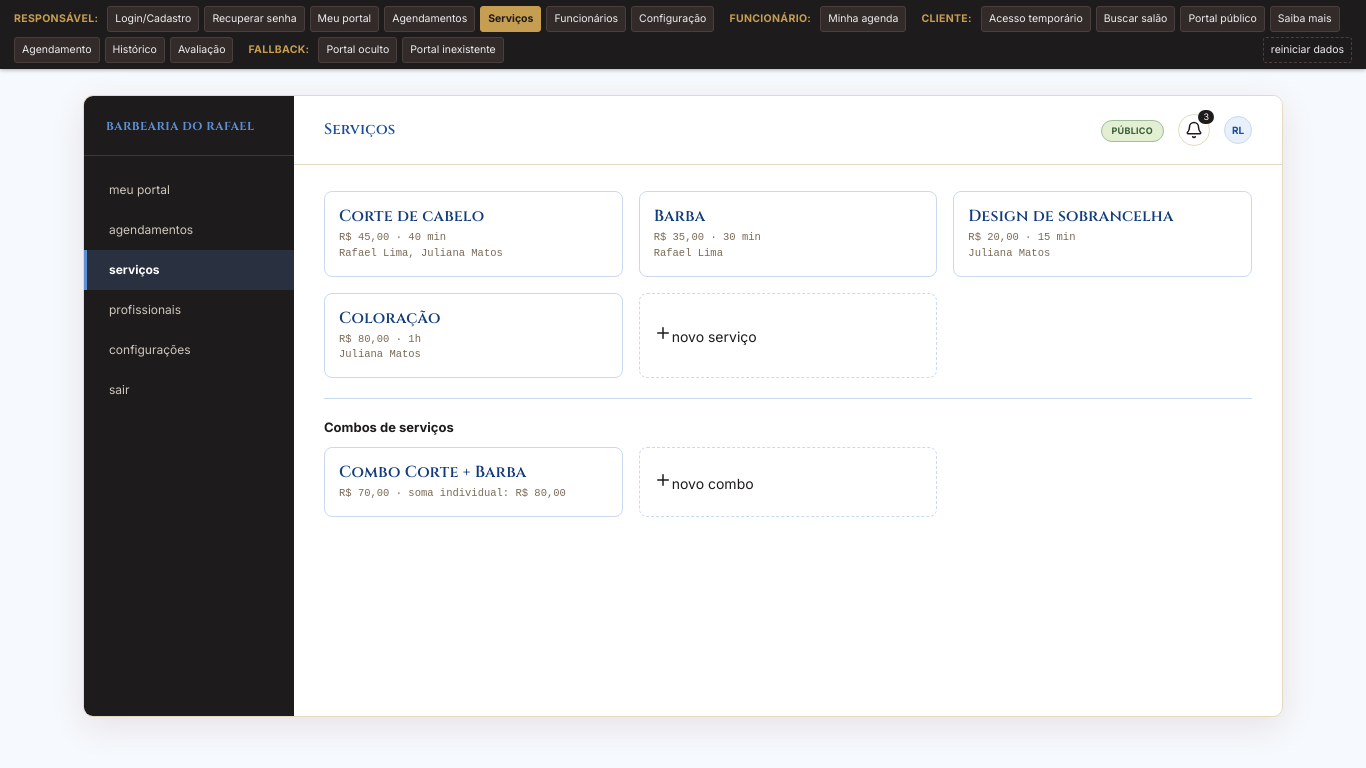
Test: painel do responsavel › modal de servico valida campos
Click the button "novo serviço" at (714, 336), box [639, 292, 937, 378]
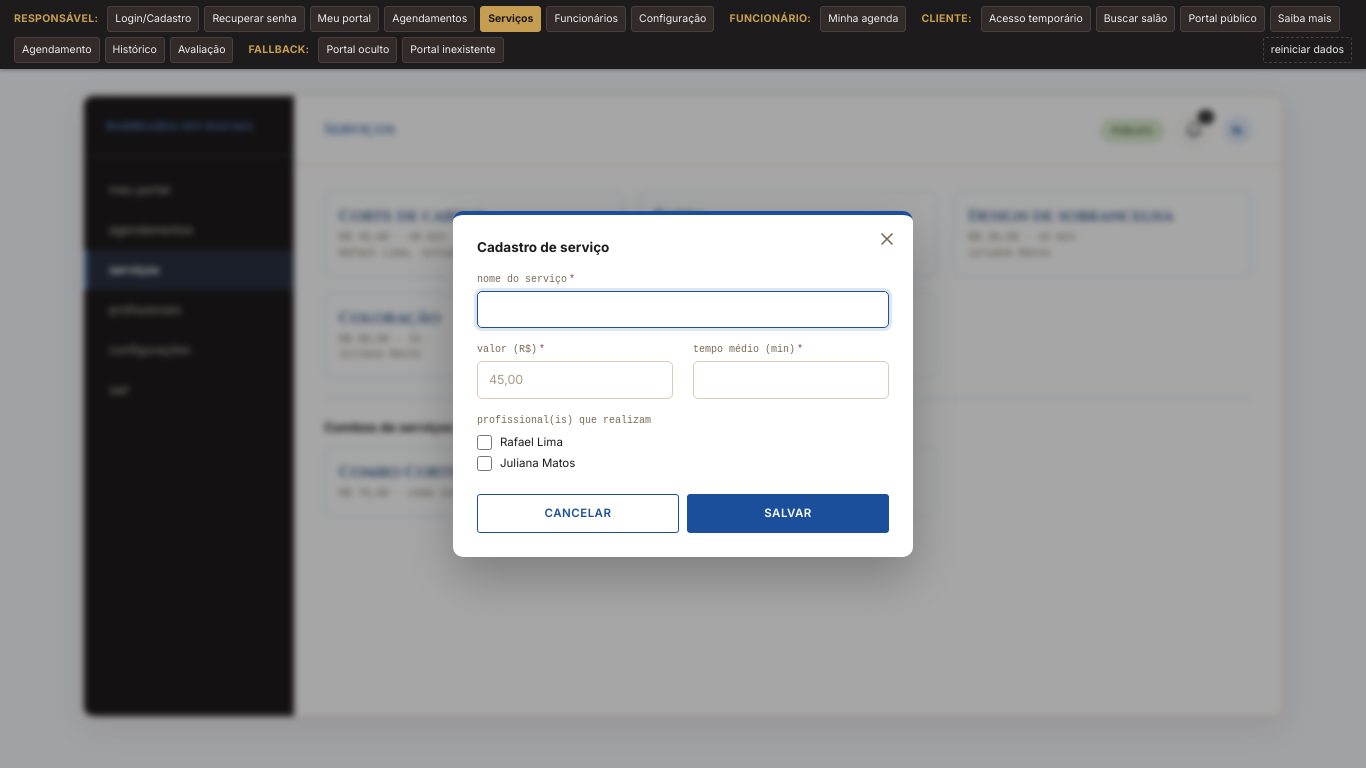
Click the button "Salvar" at (788, 514), box [687, 494, 889, 533]
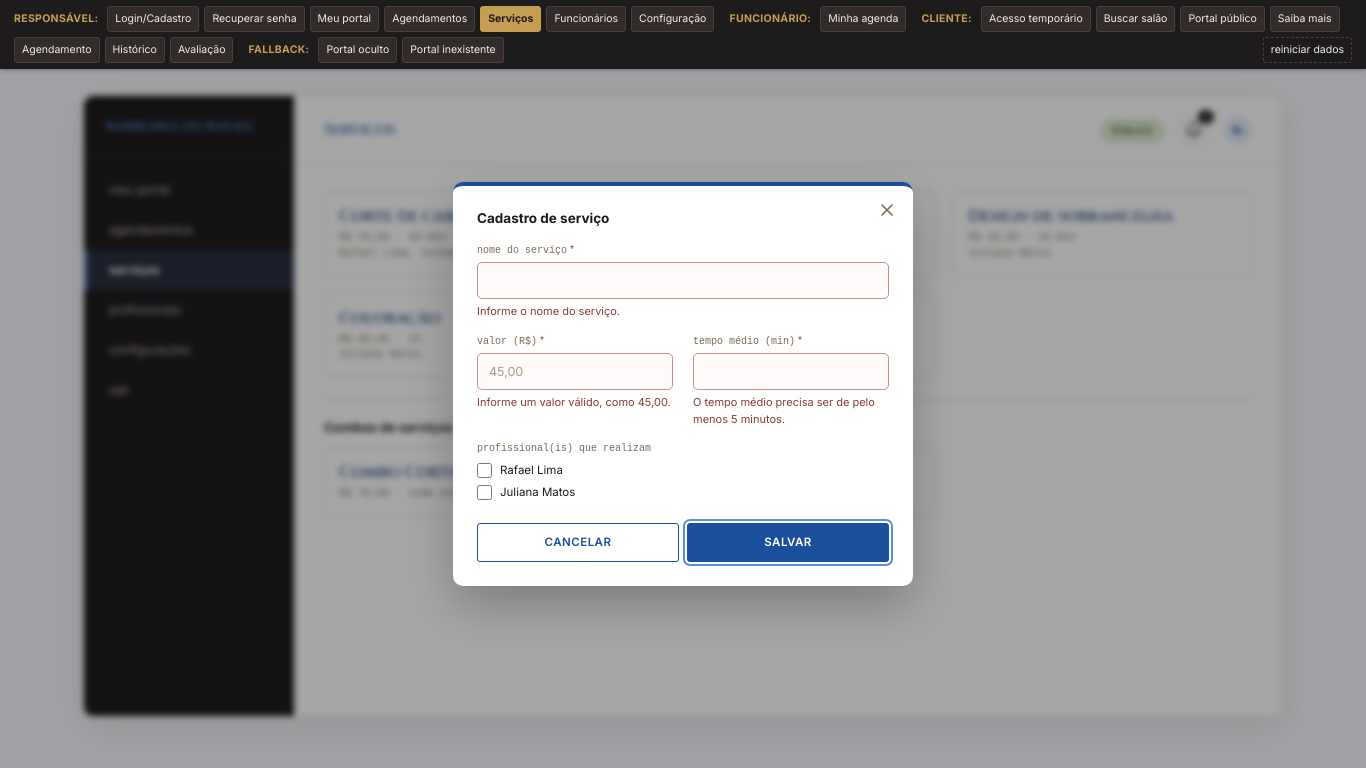
expect the text "Informe o nome do serviço." is shown: met, box [477, 304, 620, 318]
Press Escape
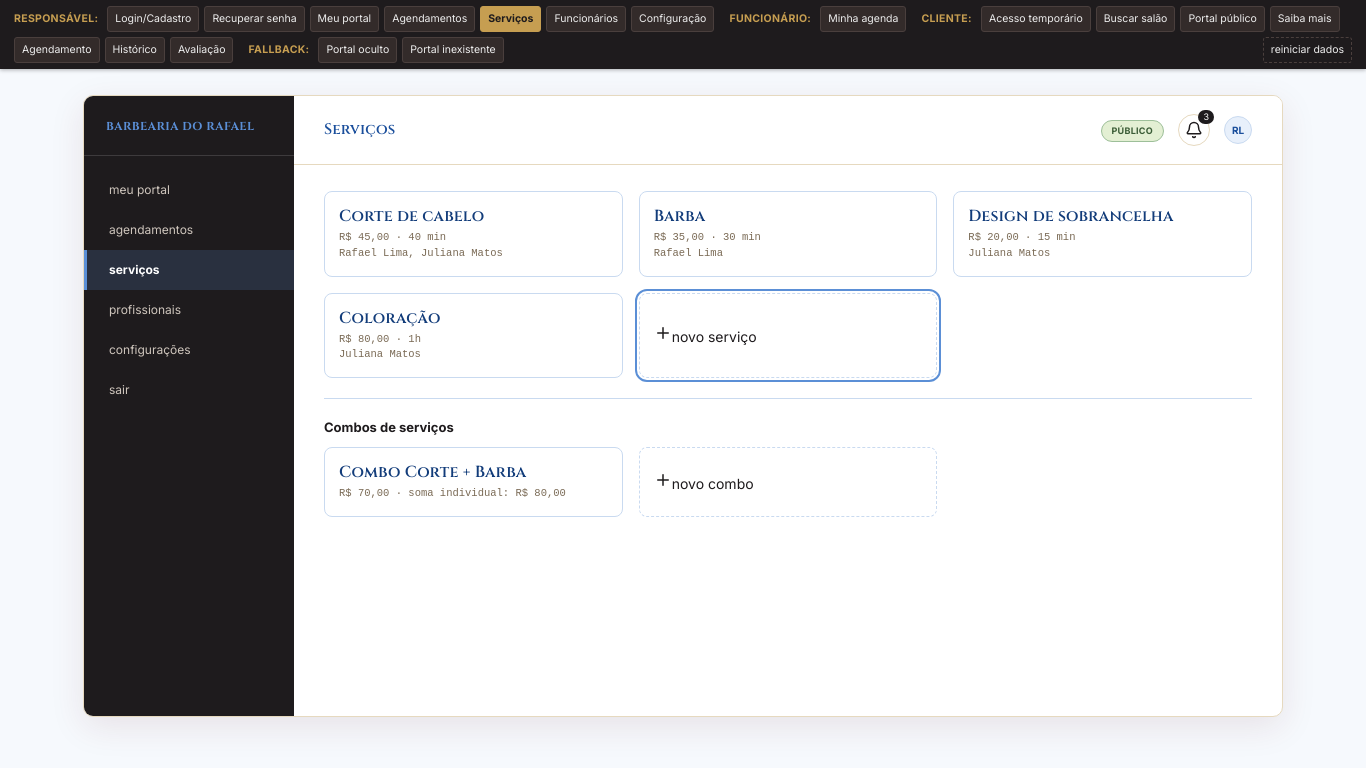
expect the dialog is gone: met
